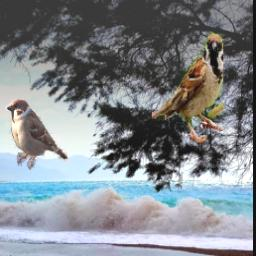Sparrow: (152, 34, 223, 144), (6, 98, 68, 170)
